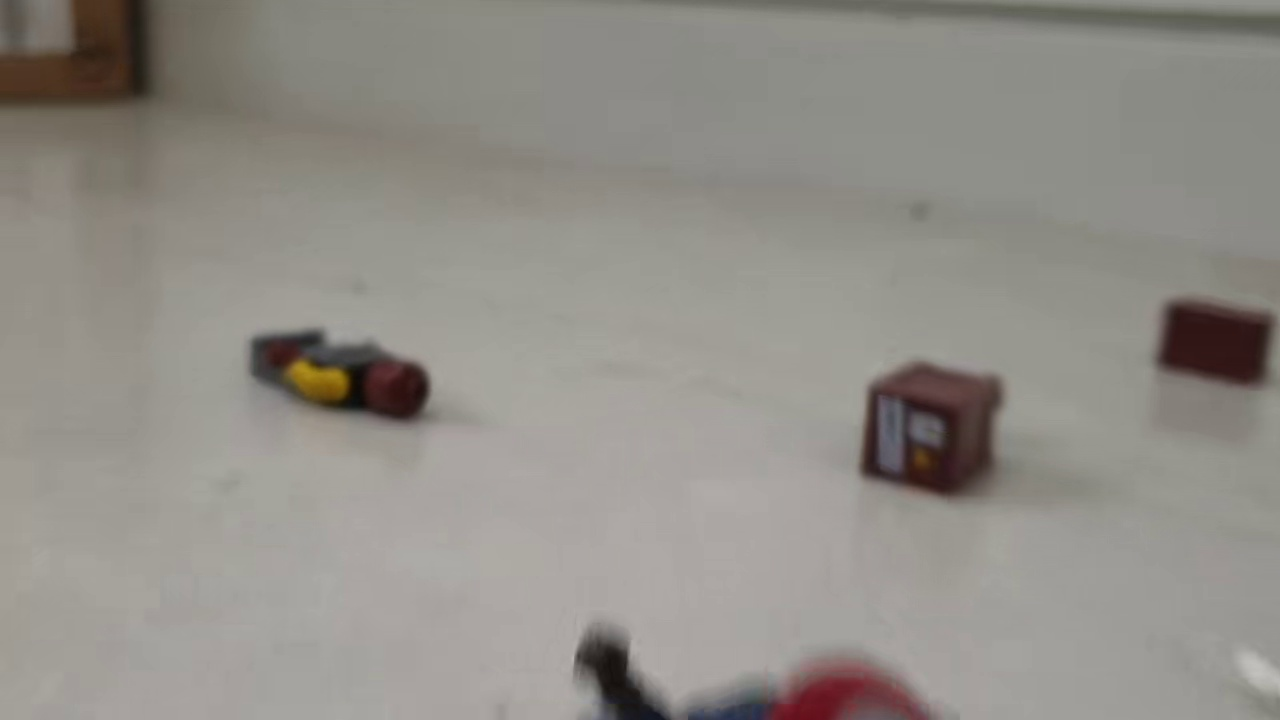box: (859, 360, 1006, 498), (1156, 294, 1275, 394)
people: (250, 324, 435, 421)
